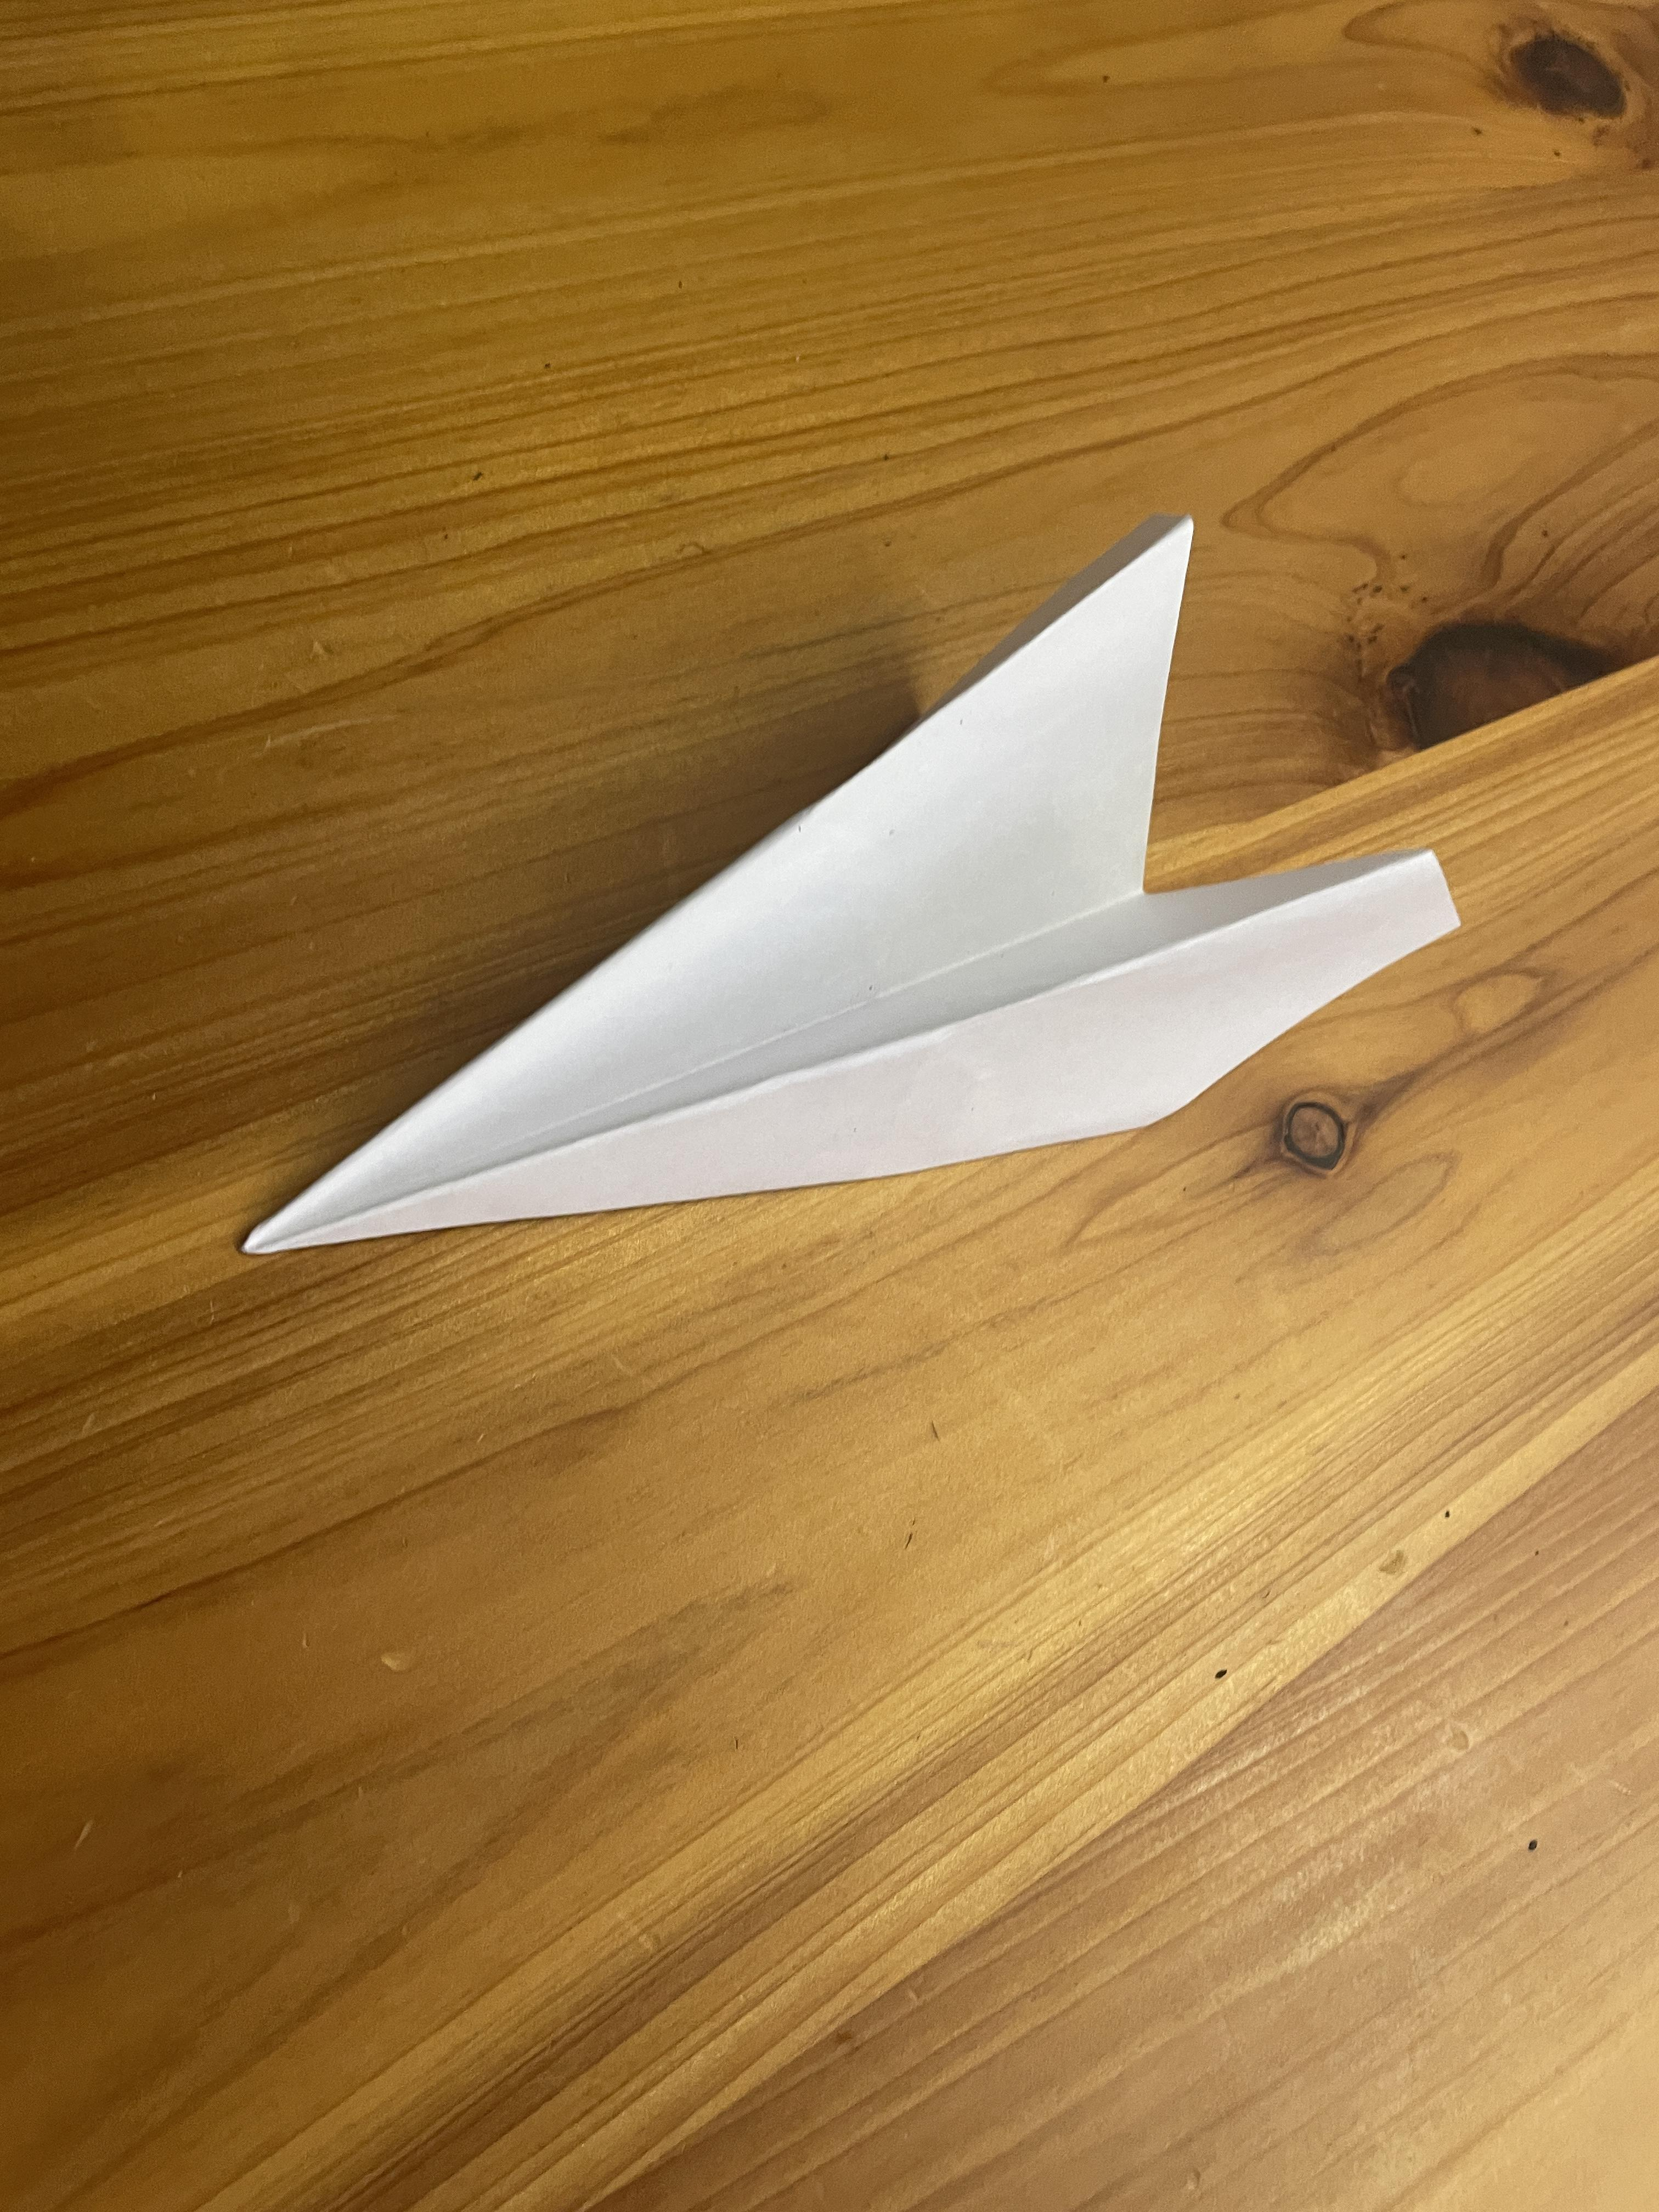shape_3: (181, 390, 1521, 1480)
